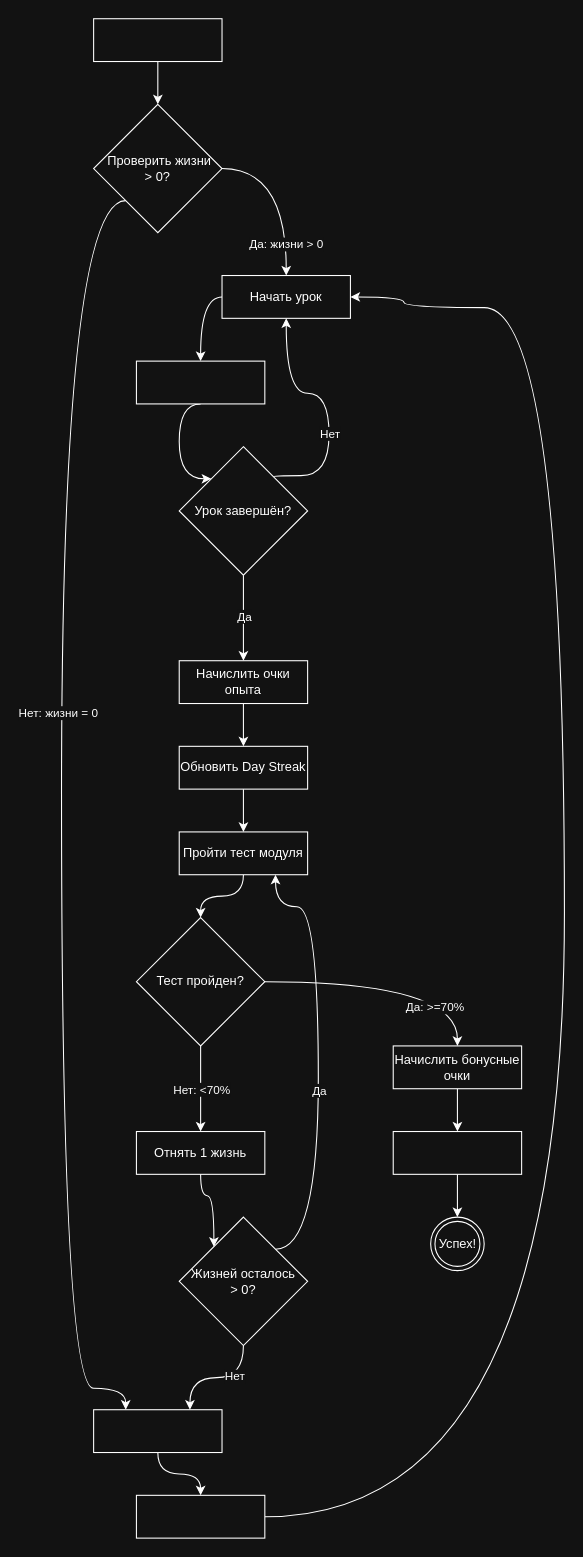
The diagram is 583 pixels wide and 1557 high, and some of its shapes have lost their labels. Each missing label, with the centre of its shape:
"Вернуться к началу модуля" goes at (x=157, y=1431).
"Завершить модуль" goes at (x=457, y=1152).
"Изучить материал урока" goes at (x=200, y=382).
"Начало модуля" goes at (x=157, y=40).
"Сбросить прогресс, восстановить жизни" goes at (x=200, y=1516).
